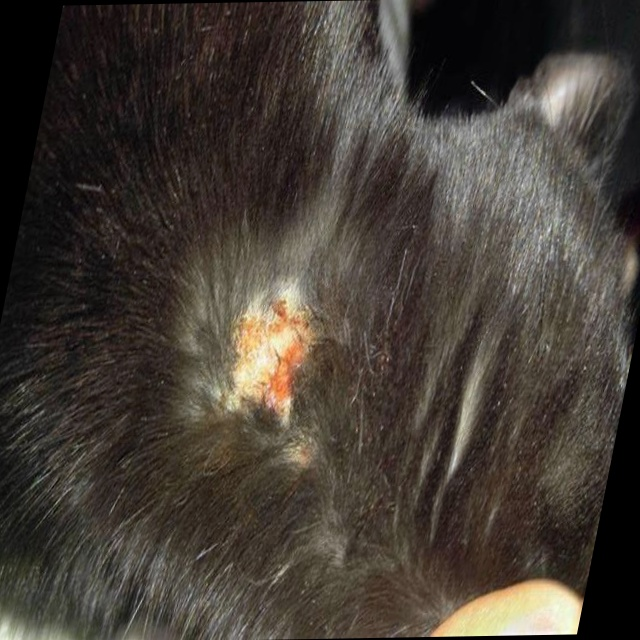ringworm: (222, 290, 340, 407)
